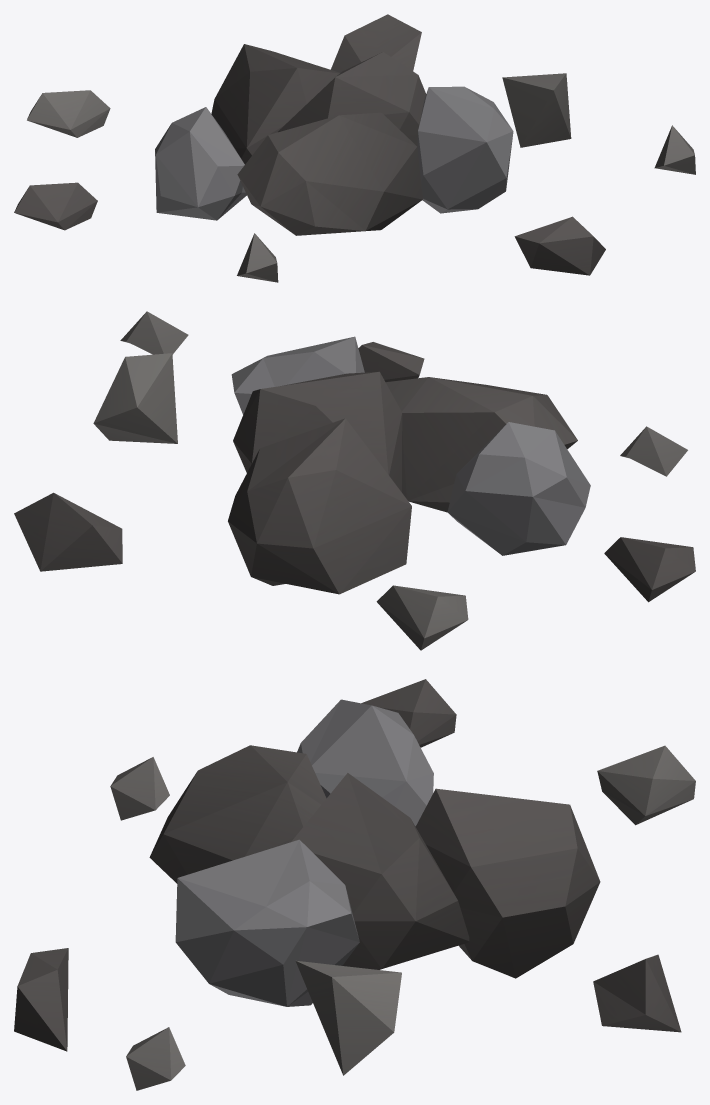
File: ZLPC_Rock_E_6.FBX
The picture shows the model from 3 angles, top to bottom: view 1: azimuth 30°, elevation 25°; view 2: azimuth 150°, elevation 25°; view 3: azimuth 270°, elevation 25°; orthographic projection. The views are drawn at different scales.
Visible parts, largest first — view 1: ZLPC_Rock_E_6; view 2: ZLPC_Rock_E_6; view 3: ZLPC_Rock_E_6.
Part boxes in pixels (x1,y1,x2,y2): ZLPC_Rock_E_6: [14, 14, 695, 282]; ZLPC_Rock_E_6: [14, 311, 695, 650]; ZLPC_Rock_E_6: [14, 679, 695, 1090].
Bounding box in the file's own units: 223 × 52.31 × 172.
